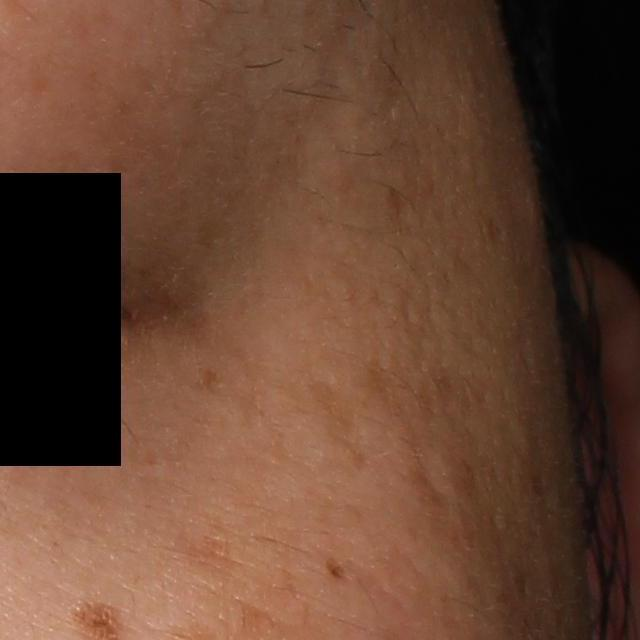melasma: (348, 352, 469, 551), (309, 377, 368, 473), (180, 530, 239, 585), (239, 597, 283, 640), (190, 359, 224, 402), (323, 557, 348, 578)
